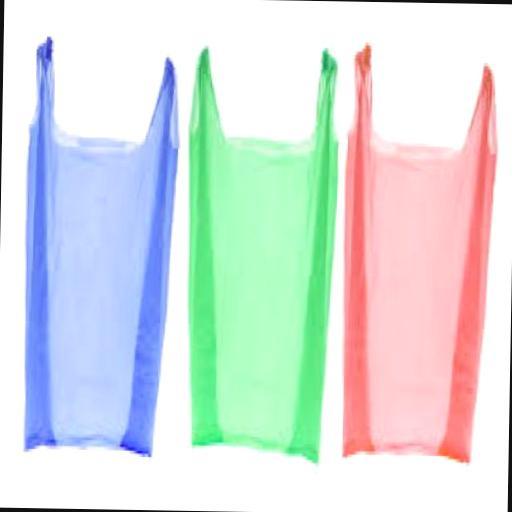plastic: (337, 40, 499, 460), (21, 36, 180, 455), (183, 46, 338, 460)
